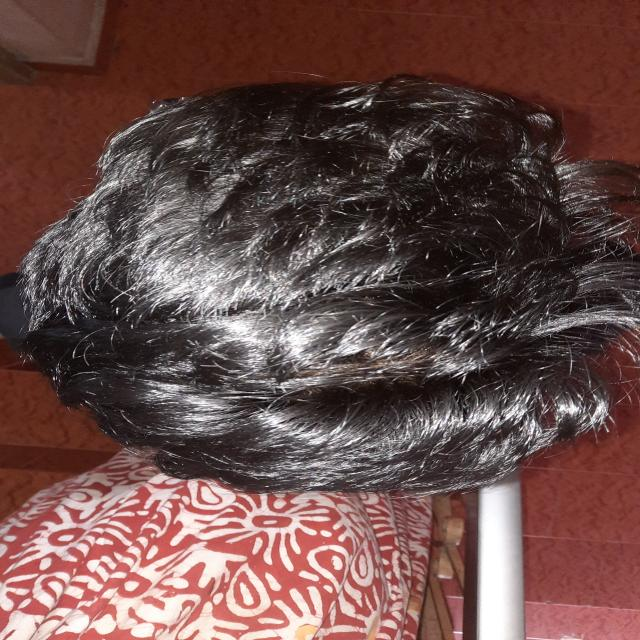humans: (0, 64, 640, 507)
